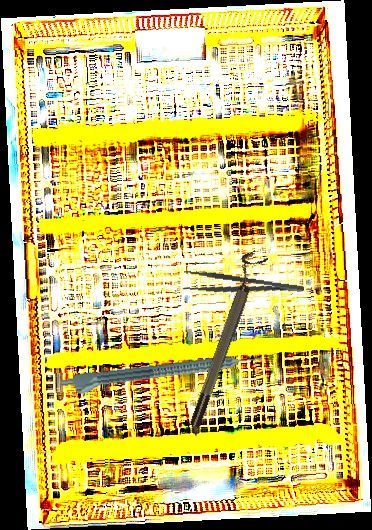Dressing Forceps: (182, 268, 305, 305)
Fixation Ring: (179, 249, 268, 430)
Handpiece: (60, 350, 264, 399)
